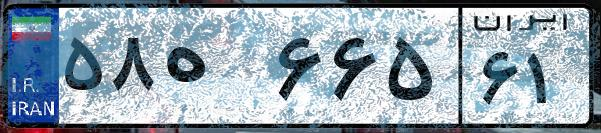1: (525, 38, 570, 115)
5: (385, 28, 445, 110), (57, 26, 110, 100)
6: (270, 28, 330, 110), (330, 28, 385, 110), (475, 38, 525, 113)
8: (110, 28, 158, 98)
ه: (158, 20, 270, 120)
